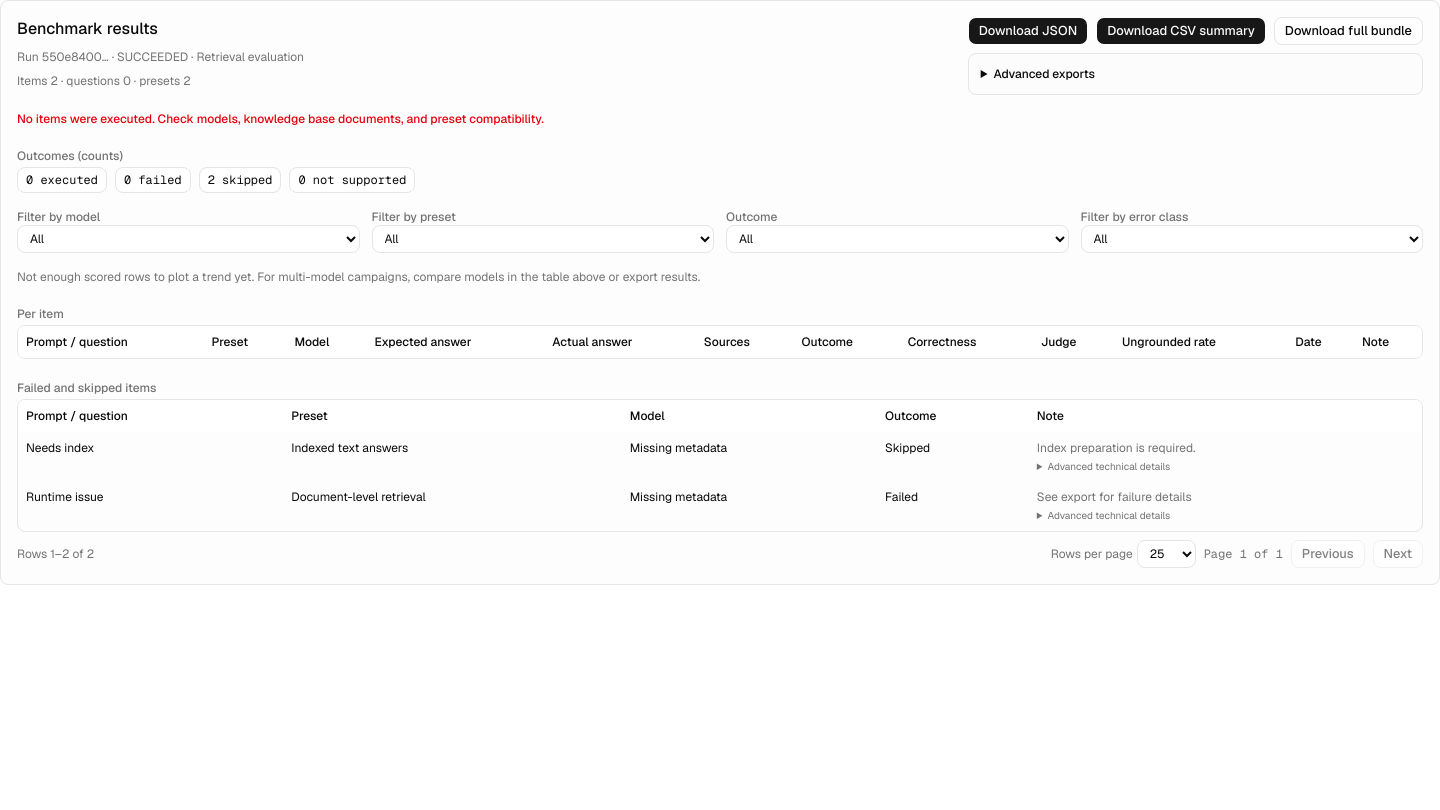
Test: LabBenchmarkResultsPanel › shows derived error class filter when items expose error classes
Select "Index preparation" in the dropdown with test id "lab-results-filter-error-class" at (1252, 239), box [1080,225,1423,253]
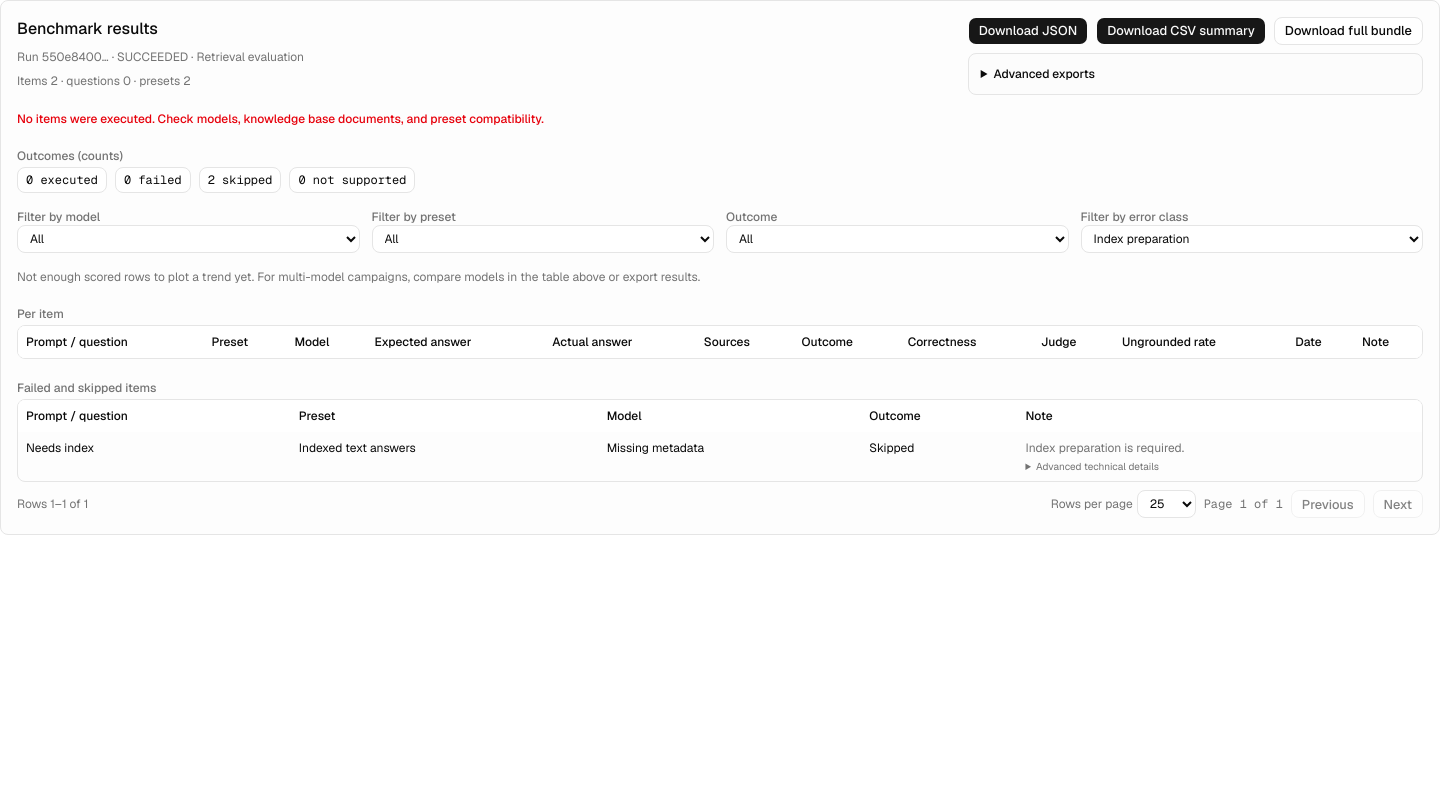
Expected: the text "Needs index" is shown, [26,440,94,456]
Result: the text "Runtime issue" is gone
